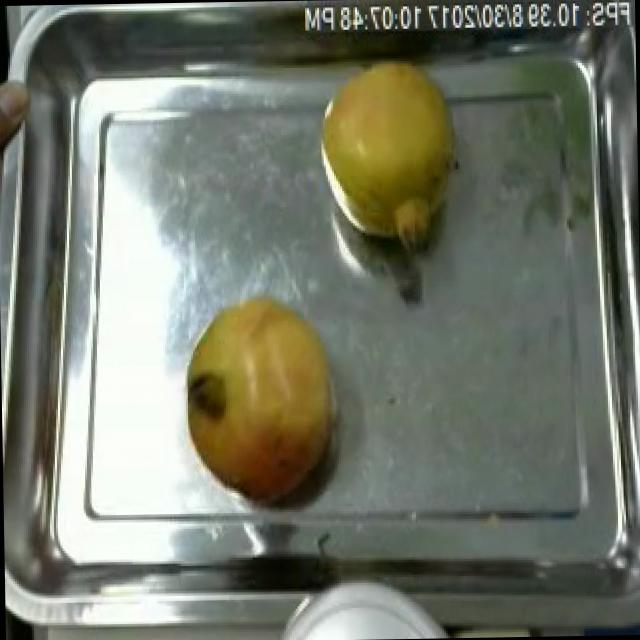fruit: (172, 282, 348, 511), (307, 50, 467, 264), (0, 67, 33, 164)
